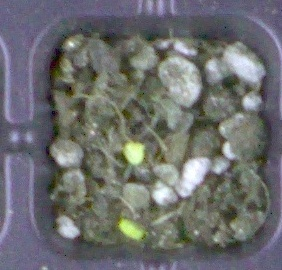chilli seed: (118, 217, 145, 241), (122, 141, 145, 165)
